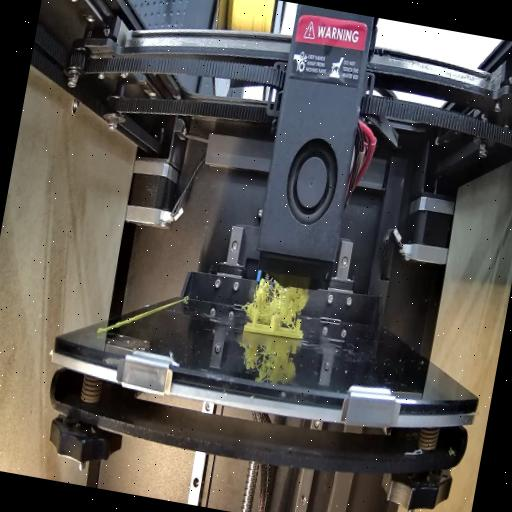spaghetti: (240, 271, 308, 330)
